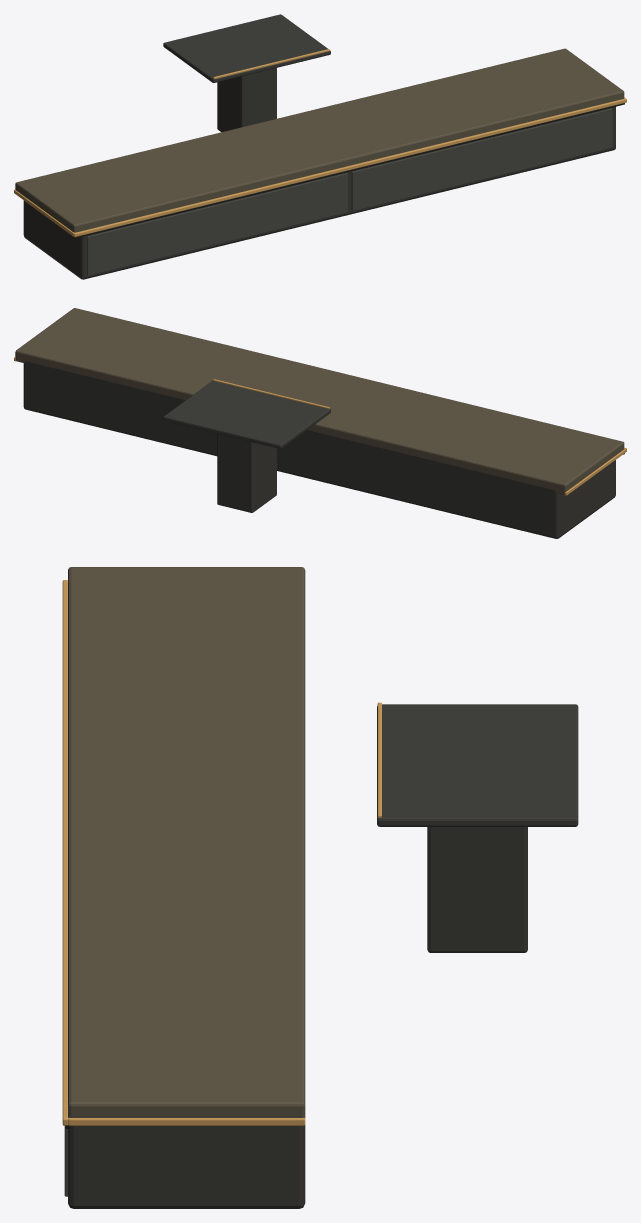
File: selection-counter.glb
The picture shows the model from 3 angles, top to bottom: view 1: azimuth 30°, elevation 25°; view 2: azimuth 150°, elevation 25°; view 3: azimuth 270°, elevation 25°; orthographic projection. The views are drawn at different scales.
Visible parts, largest first — view 1: Comptoir_Selection; view 2: Comptoir_Selection; view 3: Comptoir_Selection.
Part boxes in pixels (bbox=[...]): Comptoir_Selection: bbox=[14, 14, 626, 279]; Comptoir_Selection: bbox=[14, 308, 626, 538]; Comptoir_Selection: bbox=[62, 567, 578, 1208].
Bounding box in the file's own units: 8.89 × 1.47 × 3.59.
